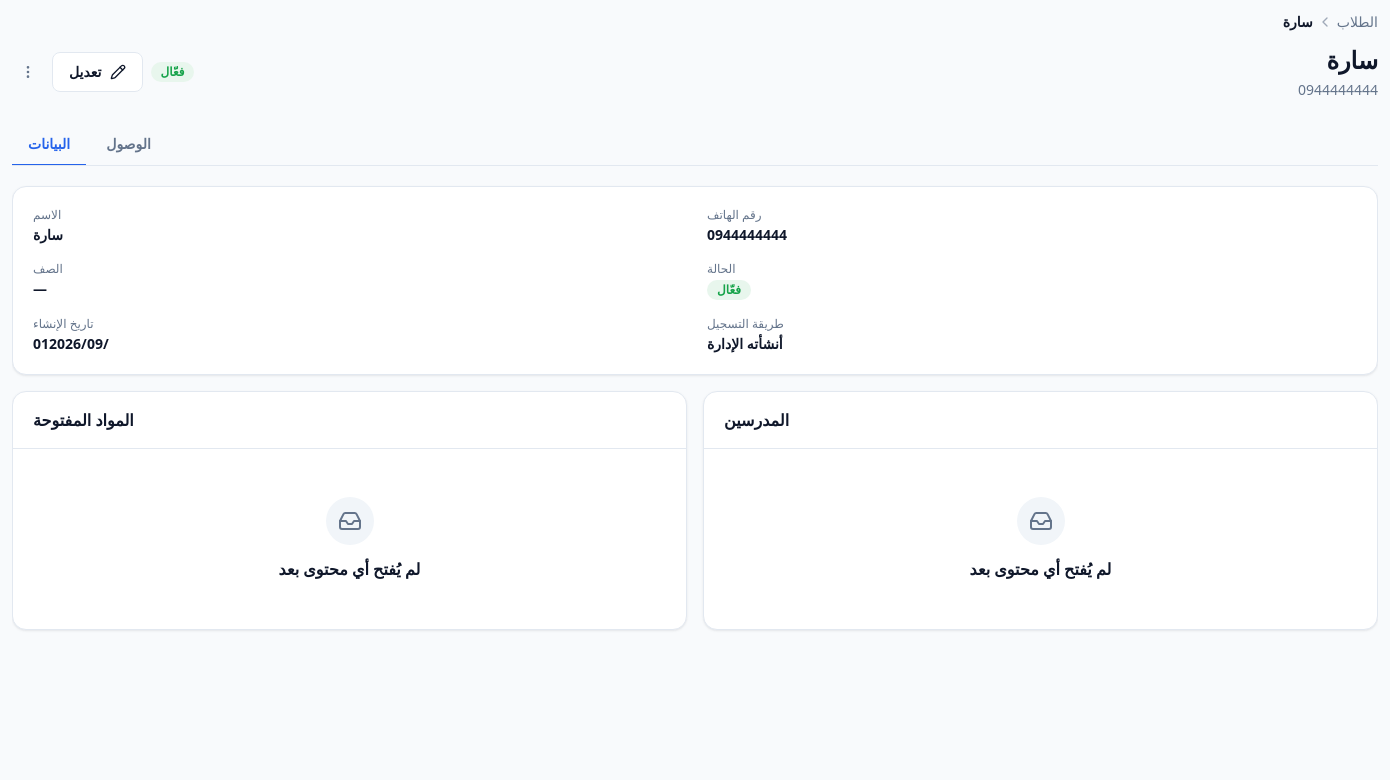
Test: student page (owner) › shows the profile without device details, sessions, last login or password reset
Expected: the text "سارة" next to "الطلاب" is shown, [1283, 12, 1313, 31]
Click the button named "الإجراءات": click(28, 72) [12, 56, 44, 88]
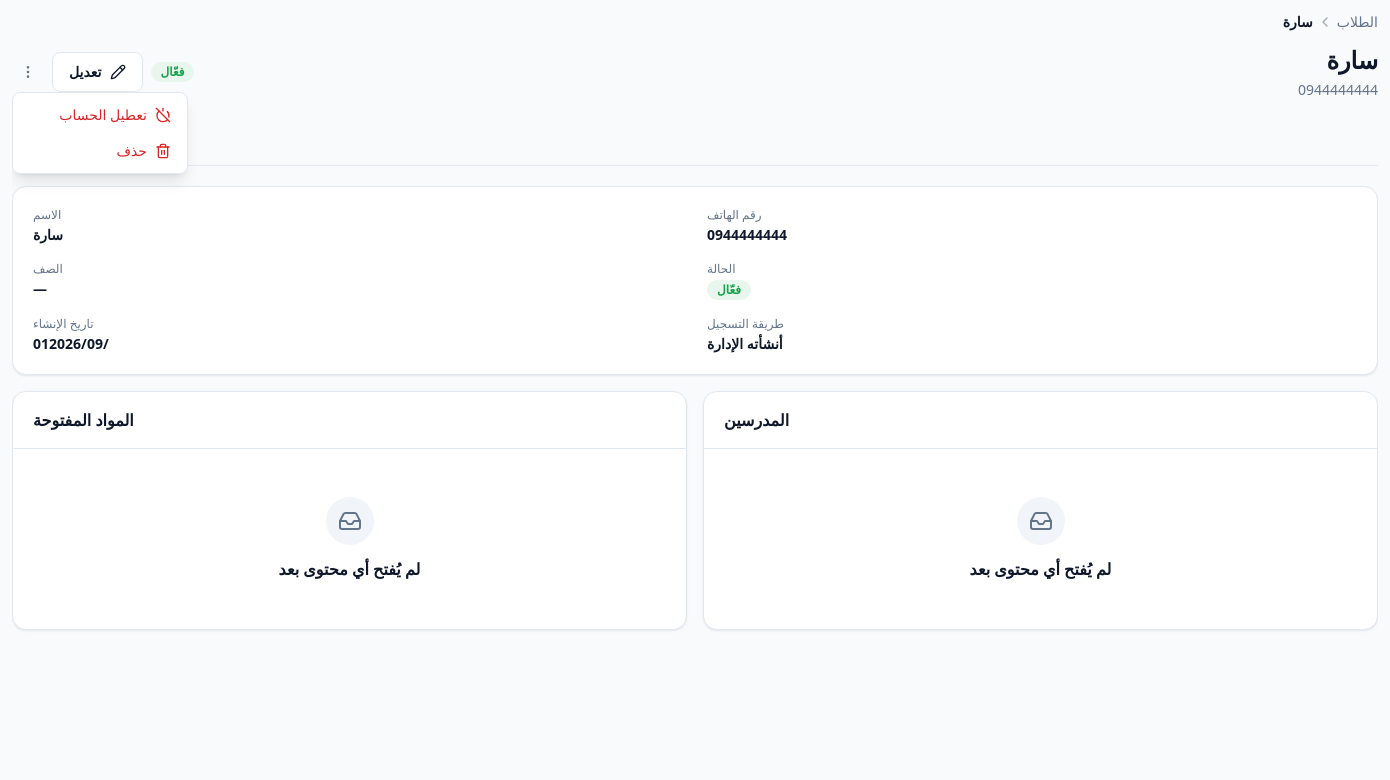
Expected: the menu item "حذف" is shown, [116, 141, 171, 160]
